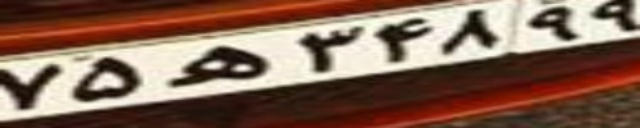3: (291, 25, 362, 73)
4: (369, 17, 434, 62)
5: (73, 55, 141, 100)
7: (0, 63, 62, 109)
8: (440, 10, 496, 53)
9: (524, 5, 579, 42), (589, 0, 639, 31)
he: (165, 45, 269, 88)
